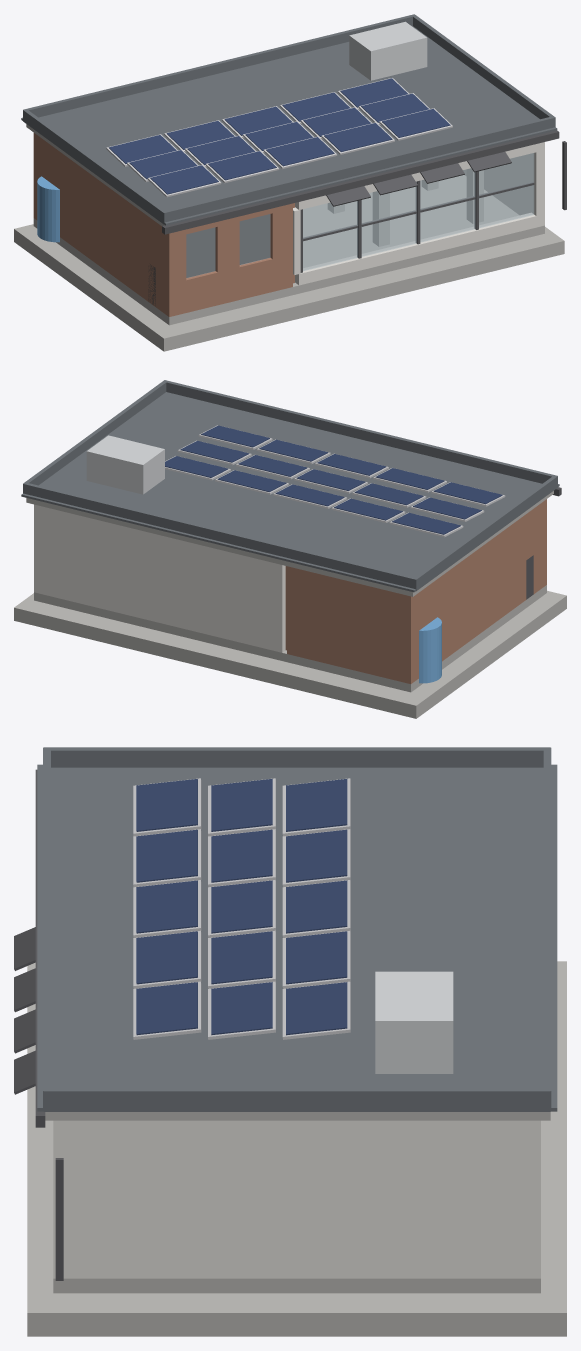
The model's file is hero-house-v1.glb.
The picture shows the model from 3 angles, top to bottom: view 1: azimuth 30°, elevation 25°; view 2: azimuth 150°, elevation 25°; view 3: azimuth 270°, elevation 25°; orthographic projection. The views are drawn at different scales.
Visible parts, largest first — view 1: ROOF_Membrane, STR_Foundation_Raft, STR_Floor_Slab, ENV_Brick_Wall_West, ROOF_Parapet_S, ROOF_Parapet_N, ENV_Sill_Front, ROOF_Fascia_Front, MEP_AHU_Plant, GLZ_Pane_Front_0, GLZ_Pane_Front_3, GLZ_Pane_Front_2 (+38 smaller); view 2: ROOF_Membrane, ENV_Render_Rear_Right, STR_Foundation_Raft, ENV_Brick_Wall_West, ENV_Brick_Rear_Left, ROOF_Parapet_N, ROOF_Parapet_S, STR_Floor_Slab, MEP_AHU_Plant, STR_Roof_Slab, ROOF_Parapet_W, ROOF_Parapet_E (+17 smaller); view 3: ROOF_Membrane, ENV_Render_Wall_East, STR_Foundation_Raft, ROOF_Parapet_E, ROOF_Parapet_W, MEP_AHU_Plant, STR_Floor_Slab, STR_Roof_Slab, ROOF_Parapet_N, SUS_PV_Cell_0_1, SUS_PV_Cell_0_2, SUS_PV_Cell_1_1 (+34 smaller).
Boxes of the visible parts, x1,y1,x2,y2 form: ROOF_Membrane: (21, 26, 557, 225); STR_Foundation_Raft: (14, 224, 564, 351); STR_Floor_Slab: (33, 175, 544, 325); ENV_Brick_Wall_West: (33, 133, 177, 316); ROOF_Parapet_S: (162, 116, 555, 223); ROOF_Parapet_N: (24, 14, 415, 117); ENV_Sill_Front: (295, 213, 539, 285); ROOF_Fascia_Front: (162, 130, 559, 234); MEP_AHU_Plant: (349, 21, 427, 80); GLZ_Pane_Front_0: (303, 201, 358, 270); GLZ_Pane_Front_3: (479, 153, 534, 228); GLZ_Pane_Front_2: (420, 168, 475, 242); ROOF_Membrane: (21, 392, 559, 592); ENV_Render_Rear_Right: (37, 506, 285, 652); STR_Foundation_Raft: (14, 590, 566, 718); ENV_Brick_Wall_West: (402, 499, 546, 683); ENV_Brick_Rear_Left: (287, 566, 407, 682); ROOF_Parapet_N: (23, 482, 417, 589); ROOF_Parapet_S: (163, 380, 557, 483); STR_Floor_Slab: (34, 585, 546, 692); MEP_AHU_Plant: (86, 435, 164, 494); STR_Roof_Slab: (26, 491, 553, 596); ROOF_Parapet_W: (413, 475, 557, 590); ROOF_Parapet_E: (23, 380, 166, 485); ROOF_Membrane: (37, 764, 557, 1111); ENV_Render_Wall_East: (53, 1120, 540, 1278); STR_Foundation_Raft: (27, 961, 566, 1336); ROOF_Parapet_E: (43, 1088, 550, 1111); ROOF_Parapet_W: (44, 747, 550, 767); MEP_AHU_Plant: (375, 971, 453, 1073); STR_Floor_Slab: (53, 1278, 540, 1293); STR_Roof_Slab: (45, 1112, 550, 1120); ROOF_Parapet_N: (543, 747, 551, 1107); SUS_PV_Cell_0_1: (136, 829, 197, 882); SUS_PV_Cell_0_2: (136, 880, 197, 933); SUS_PV_Cell_1_1: (211, 829, 272, 882).
Bounding box in the file's own units: 13.13 × 4.75 × 8.51.
